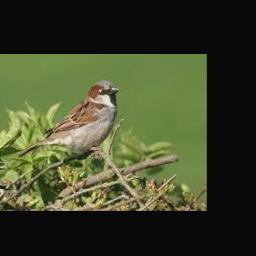Sparrow: (16, 80, 119, 159)
